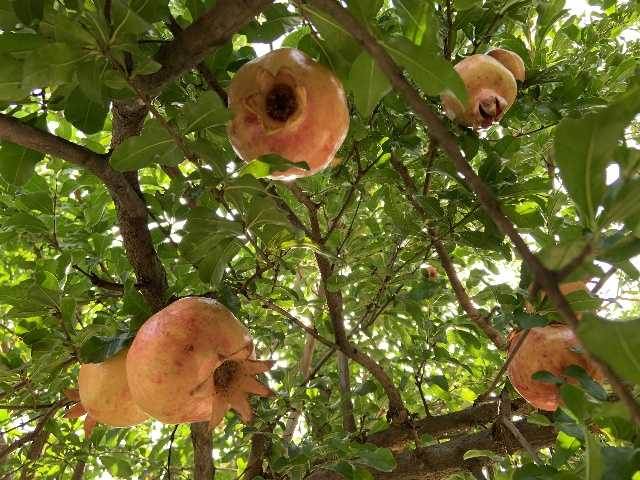ripe: (126, 296, 278, 432), (225, 47, 350, 180), (505, 324, 606, 411), (61, 344, 149, 440), (440, 53, 517, 132), (524, 270, 596, 323), (483, 48, 525, 82), (420, 266, 438, 278)
